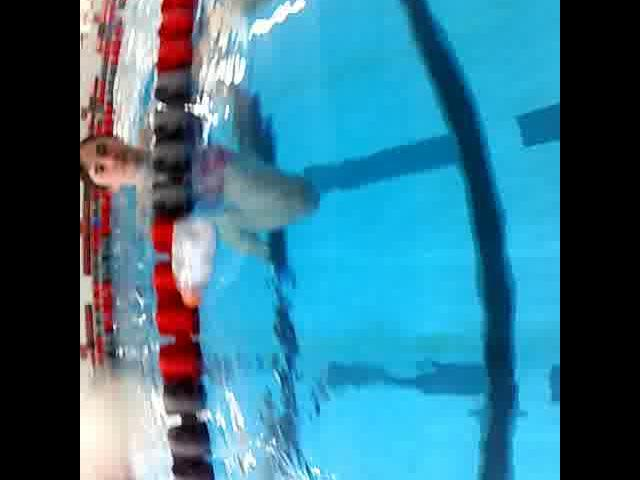Bottle: (160, 198, 226, 319)
